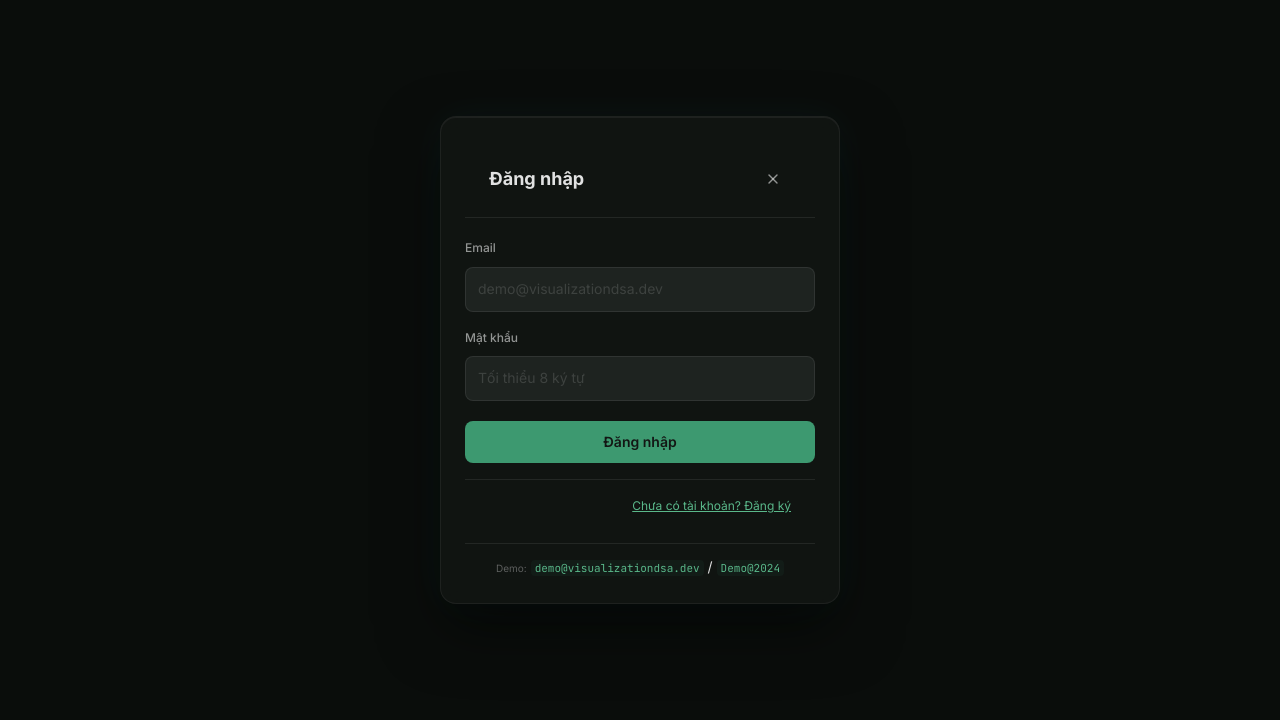
LoginModal + useAuthStore — P2 Tests › AU-003 (P2): Toggle register mode
Step 1. Click the button with class "toggle-link" → (712, 506), box [632,496,791,515]
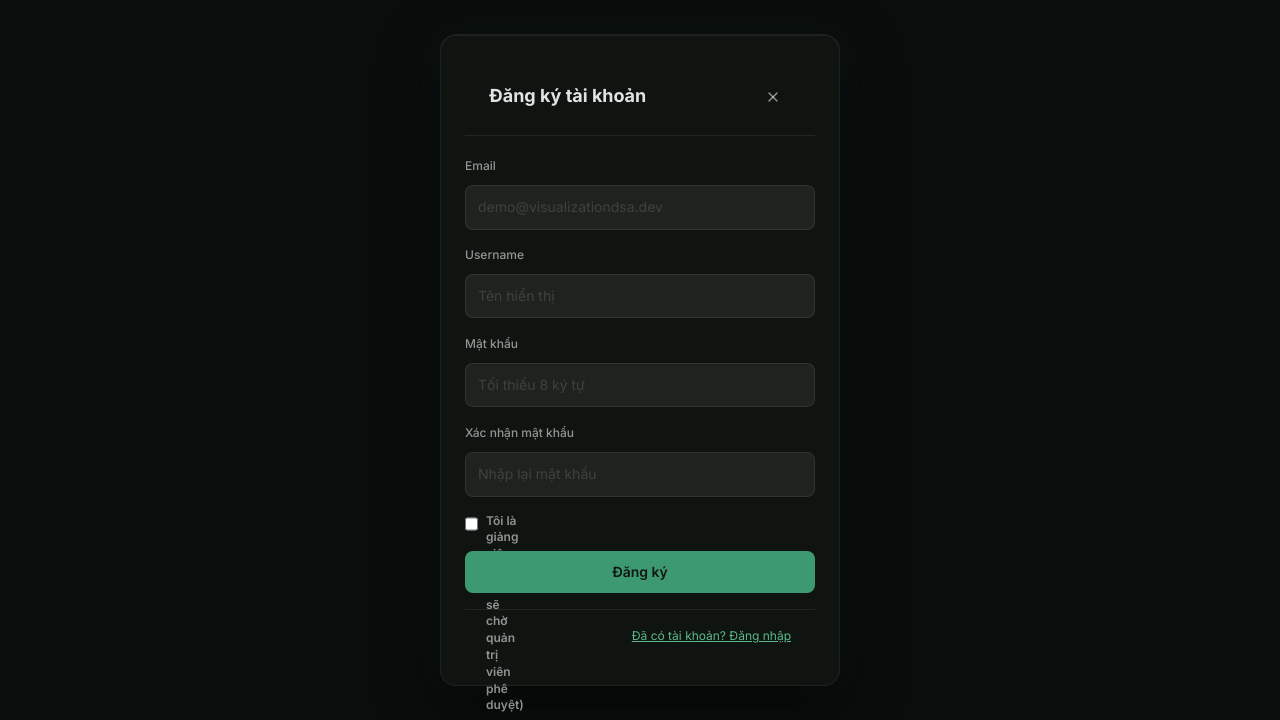
Now the field with id "auth-username" is shown, box [465,274,815,318]
